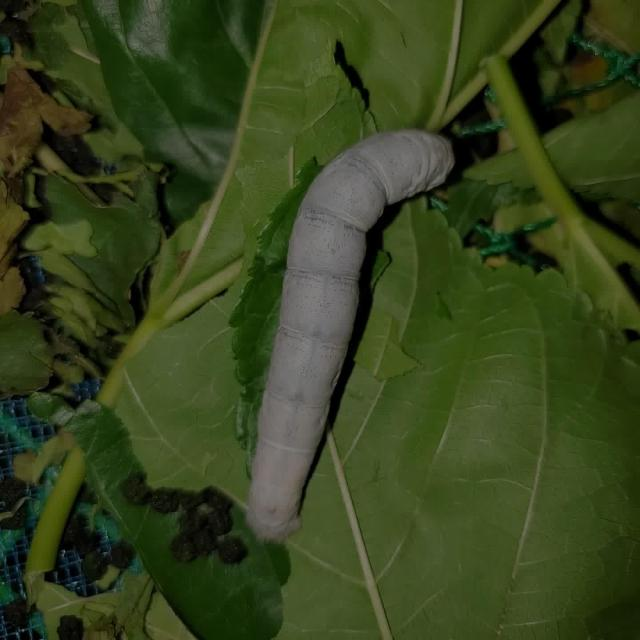Healthy: (236, 114, 454, 544)
